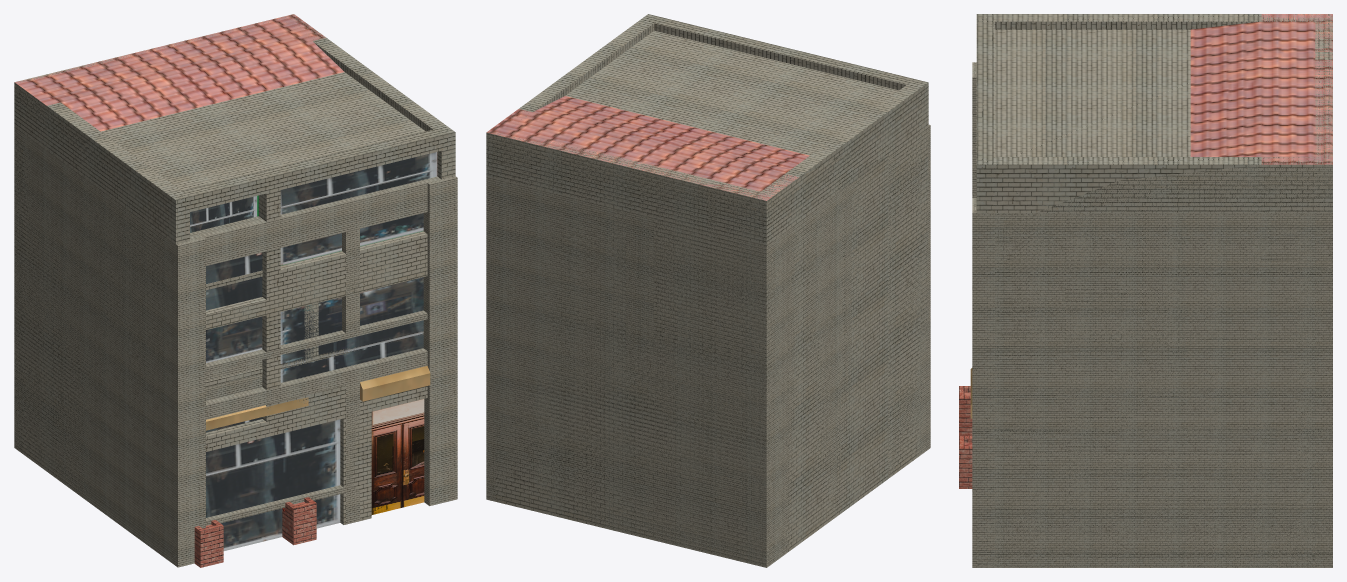
The model's file is xTraUrgent Houses.glb.
3 renders of one model, left to right at view 1: azimuth 30°, elevation 25°; view 2: azimuth 150°, elevation 25°; view 3: azimuth 270°, elevation 25°, orthographic. The views are drawn at different scales.
Visible parts, largest first — view 1: house4-col, house1-col, house2-col, house3-col; view 2: house1-col, house4-col, house2-col, house3-col; view 3: house1-col, house2-col, house4-col, house3-col.
Part boxes in pixels (box(x1,y1,x2,y2)): house4-col: box(14, 14, 455, 561); house1-col: box(14, 127, 457, 567); house2-col: box(14, 14, 423, 567); house3-col: box(14, 84, 284, 511); house1-col: box(486, 124, 930, 567); house4-col: box(486, 14, 928, 567); house2-col: box(486, 96, 920, 567); house3-col: box(486, 133, 888, 567); house1-col: box(970, 62, 1332, 567); house2-col: box(959, 14, 1332, 567); house4-col: box(976, 14, 1332, 567); house3-col: box(1066, 165, 1332, 567).
Size of the model in its own units: 10 by 12.5 by 10.5.
5 materials, 3 textured.
